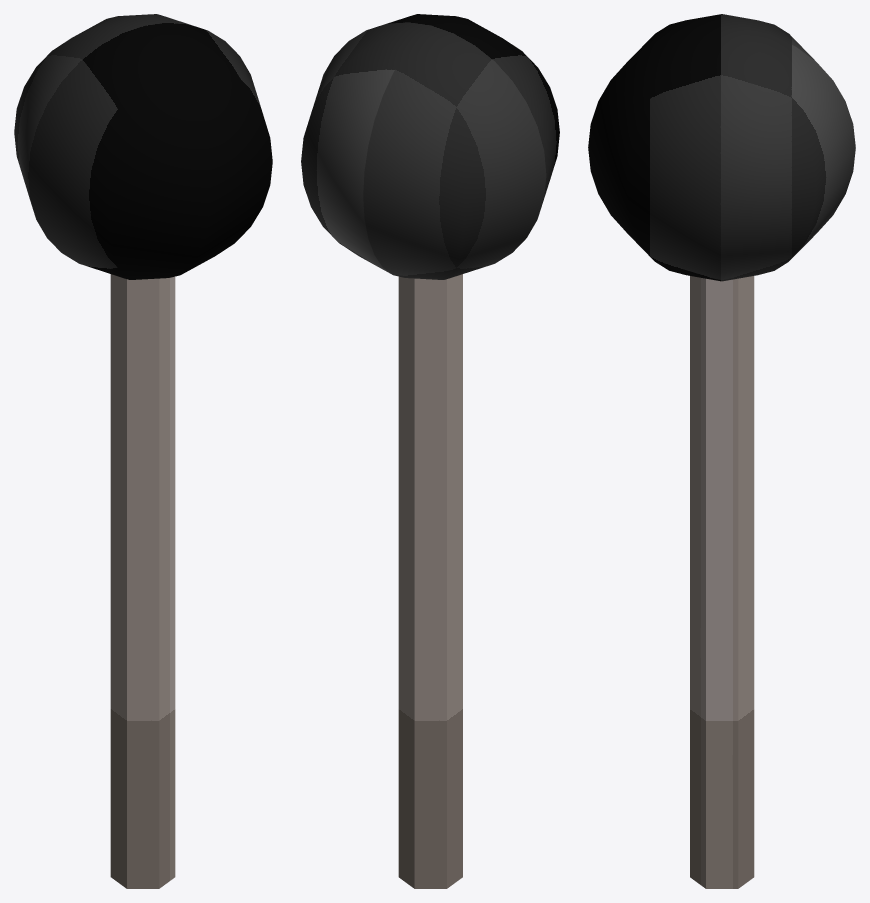
Rendered from 10_planetx07.gltf.
3 views of the same model, side by side, from view 1: azimuth 30°, elevation 25°; view 2: azimuth 150°, elevation 25°; view 3: azimuth 270°, elevation 25° (orthographic).
Parts seen in each view (by area): view 1: 10_planetx07; view 2: 10_planetx07; view 3: 10_planetx07.
Part boxes in pixels (left/top/right/bottom): 10_planetx07: left=14, top=14, right=272, bottom=888; 10_planetx07: left=301, top=14, right=559, bottom=888; 10_planetx07: left=588, top=14, right=855, bottom=888.
Size of the model in its own units: 0.6633 by 2.33 by 0.6633.
2 materials, 2 textured.
